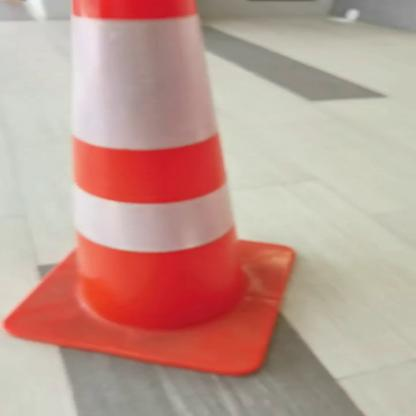cone: (0, 0, 311, 386)
